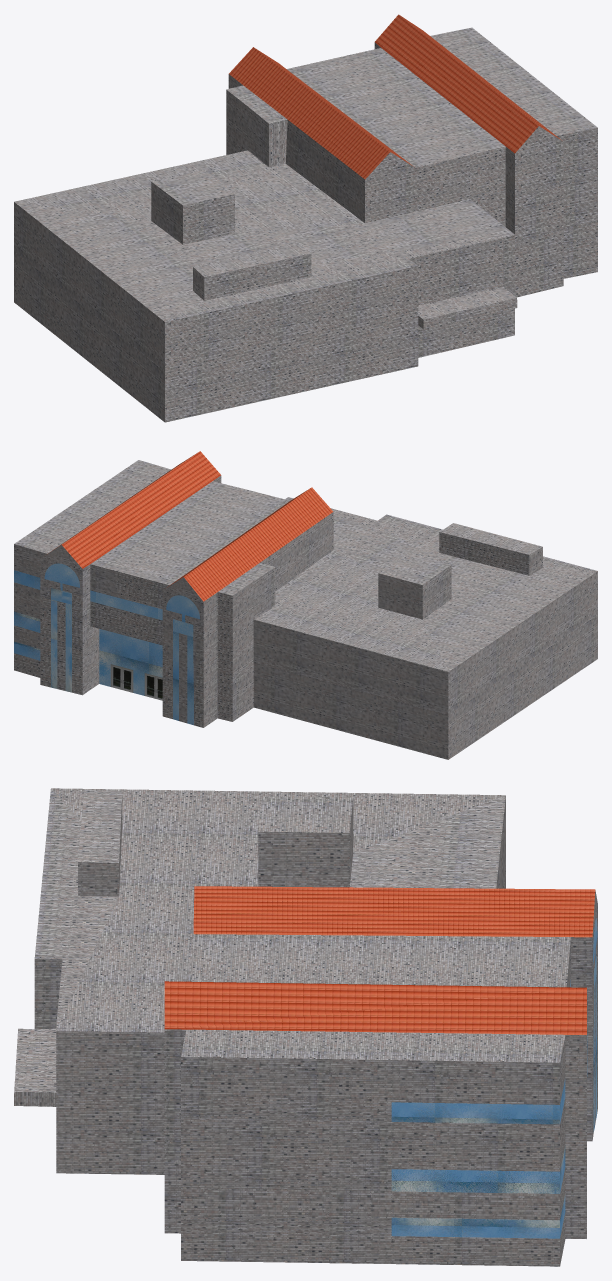
File: LibraryV2.gltf
The picture shows the model from 3 angles, top to bottom: view 1: azimuth 30°, elevation 25°; view 2: azimuth 150°, elevation 25°; view 3: azimuth 270°, elevation 25°; orthographic projection. The views are drawn at different scales.
Visible parts, largest first — view 1: DavisLibrary_0; view 2: DavisLibrary_0; view 3: DavisLibrary_0.
Boxes of the visible parts, x1=… form: DavisLibrary_0: x1=14, y1=14, x2=597, y2=422; DavisLibrary_0: x1=14, y1=451, x2=597, y2=759; DavisLibrary_0: x1=14, y1=788, x2=597, y2=1266.
Size of the model in its own units: 73.41 by 24.17 by 53.9.
Materials: 4 (4 with a texture image).
